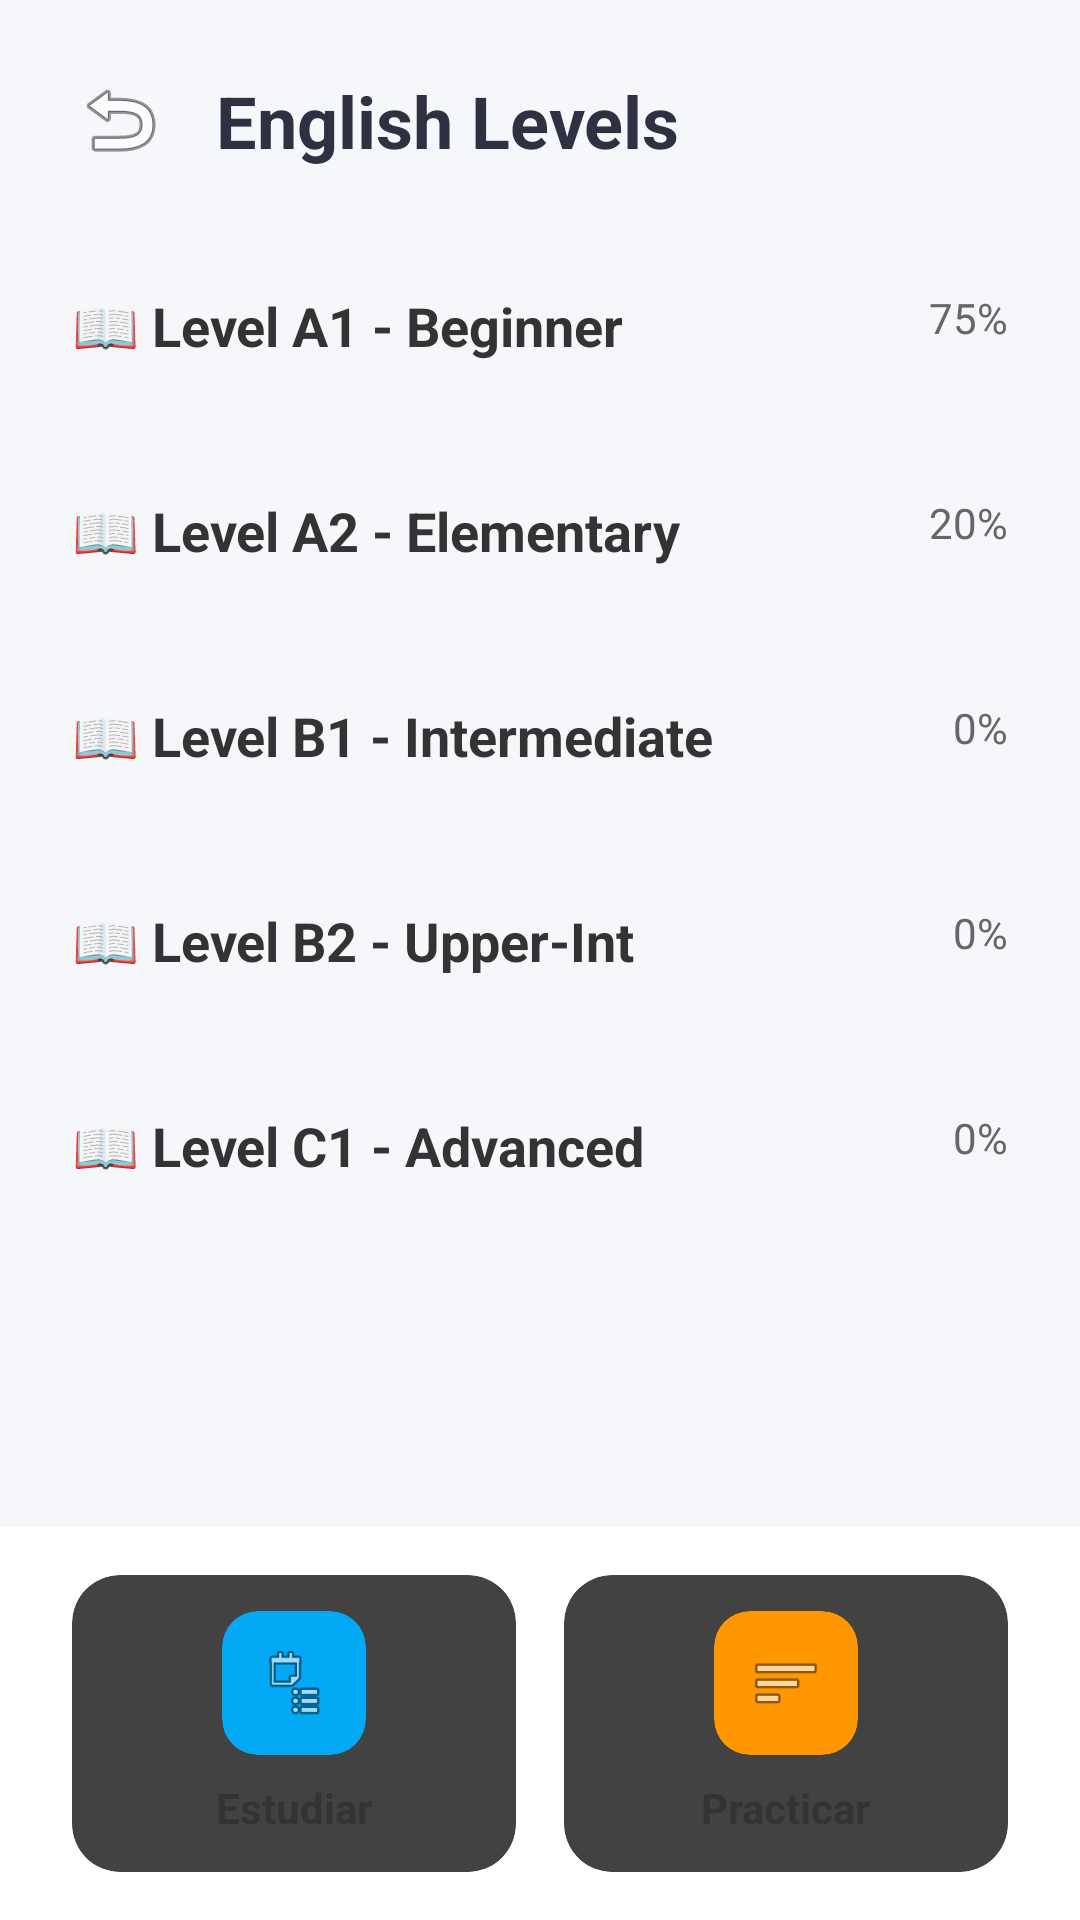

Screen size 1080*1920. Icon name, then its box in pixels as (x1, y1, x2, y2):
agenda: (269, 1651, 320, 1715)
revert: (87, 89, 156, 152)
sort by size: (755, 1663, 817, 1704)
